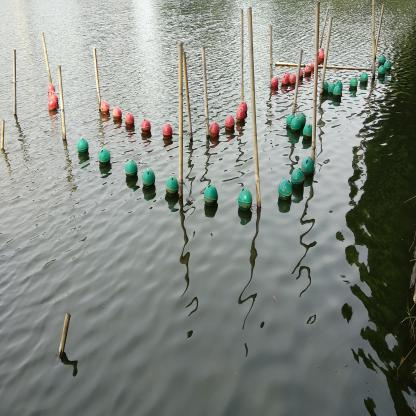green_buoy: (235, 184, 254, 218), (201, 183, 219, 212), (276, 178, 294, 207), (124, 156, 139, 182), (290, 167, 305, 193), (164, 173, 179, 198), (142, 167, 156, 193), (303, 156, 316, 182), (75, 136, 90, 158), (97, 146, 111, 168), (303, 125, 315, 144), (291, 120, 302, 137), (325, 82, 334, 102), (374, 66, 386, 81), (333, 85, 342, 104), (360, 72, 369, 91), (350, 77, 358, 94), (286, 113, 294, 129), (384, 61, 392, 75), (378, 54, 385, 68)
red_buoy: (110, 104, 122, 127), (140, 116, 152, 138), (161, 120, 173, 141), (124, 110, 136, 130), (209, 120, 219, 142), (224, 114, 234, 136), (236, 107, 246, 127), (48, 97, 57, 116), (288, 72, 298, 89), (46, 82, 57, 96), (317, 47, 326, 64), (99, 101, 109, 116), (271, 74, 279, 92), (296, 66, 304, 83), (303, 64, 312, 79), (240, 101, 249, 115), (282, 72, 289, 90)
